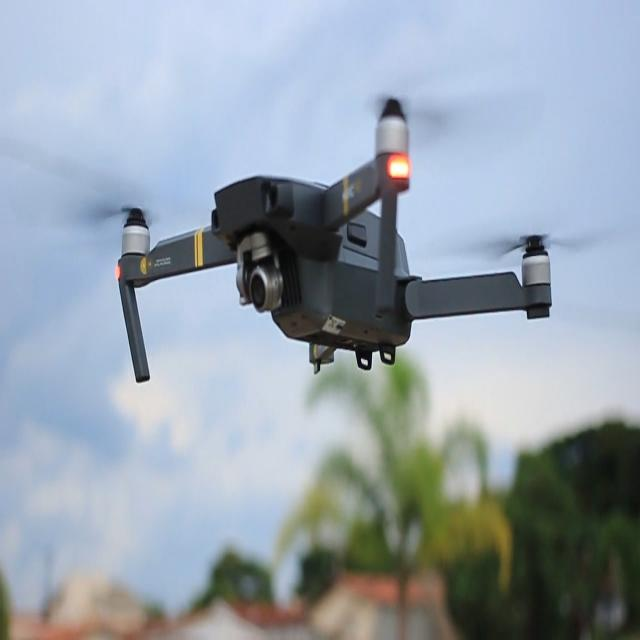Drone: (118, 102, 556, 389)
